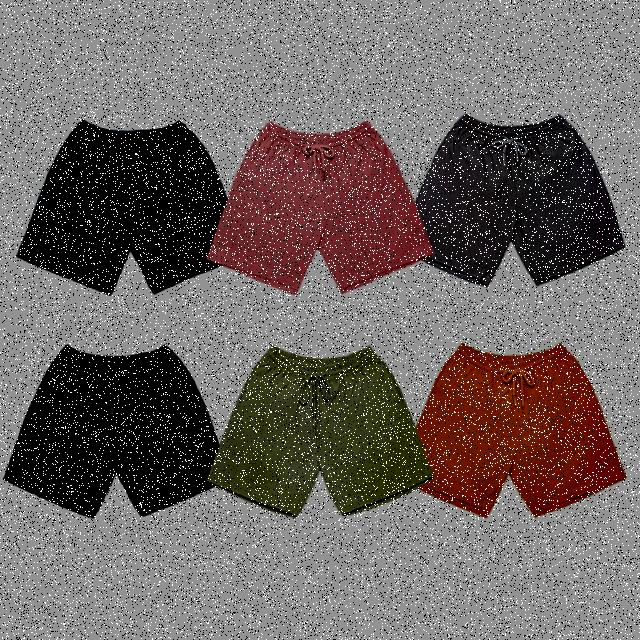Blouse_deep: (408, 112, 630, 287), (27, 118, 230, 292), (208, 351, 406, 509)
